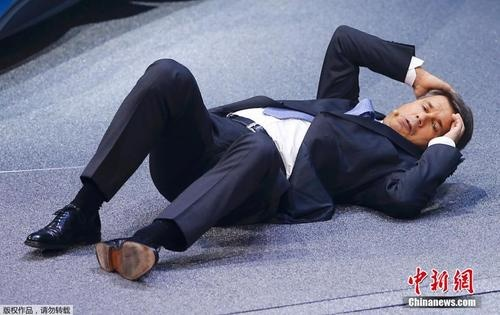falling: (21, 16, 478, 297)
